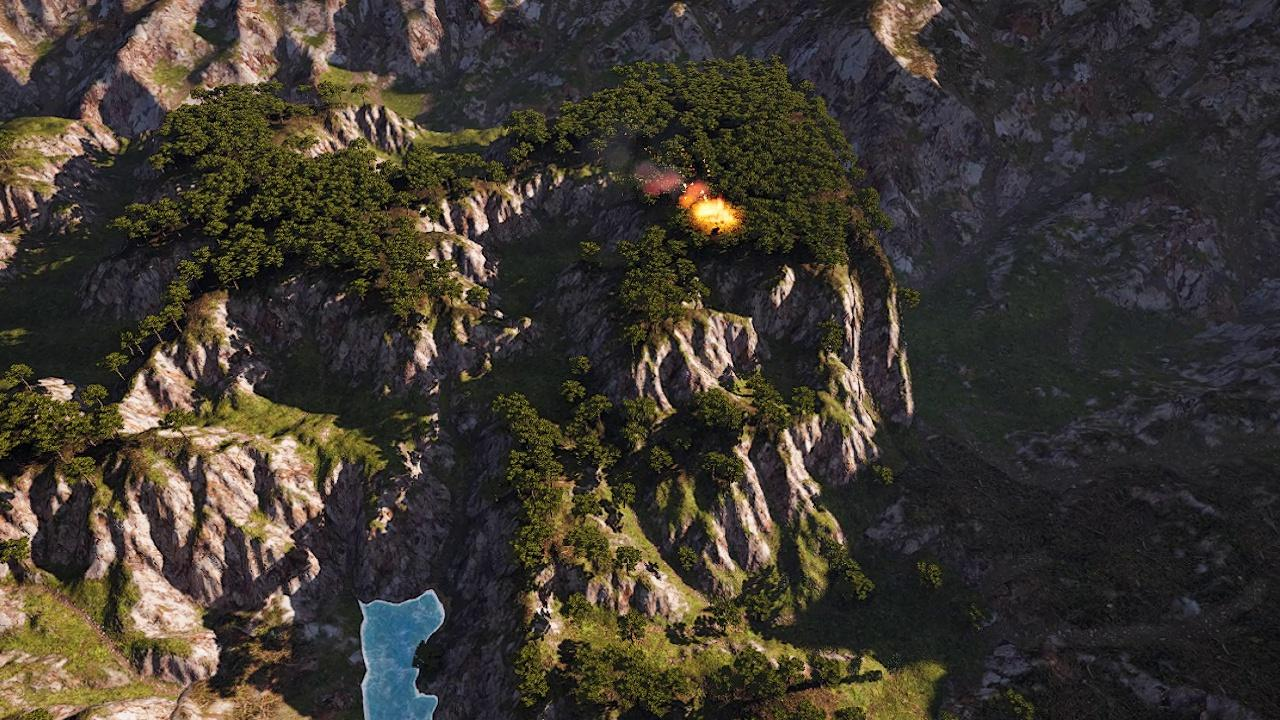fire: (688, 198, 737, 229)
smoke: (596, 130, 680, 199)
